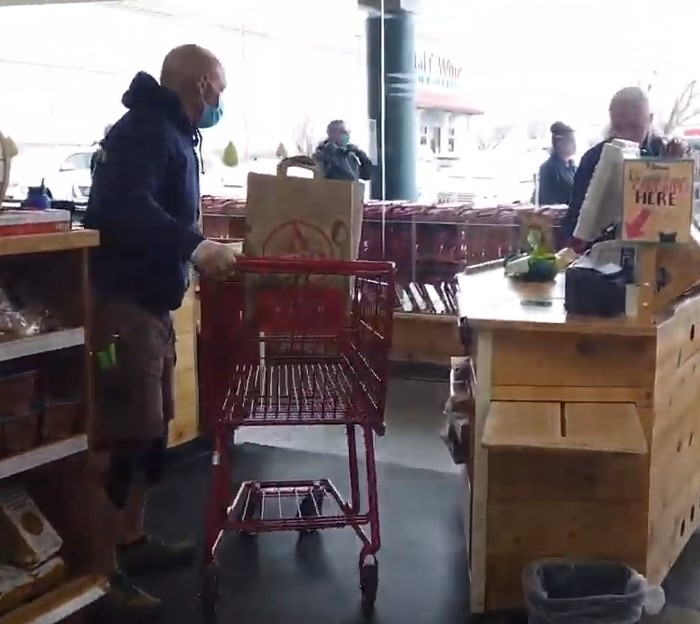face_no_mask: (609, 84, 653, 146)
face_with_mask: (159, 41, 229, 132), (549, 131, 580, 161), (326, 118, 353, 148)
